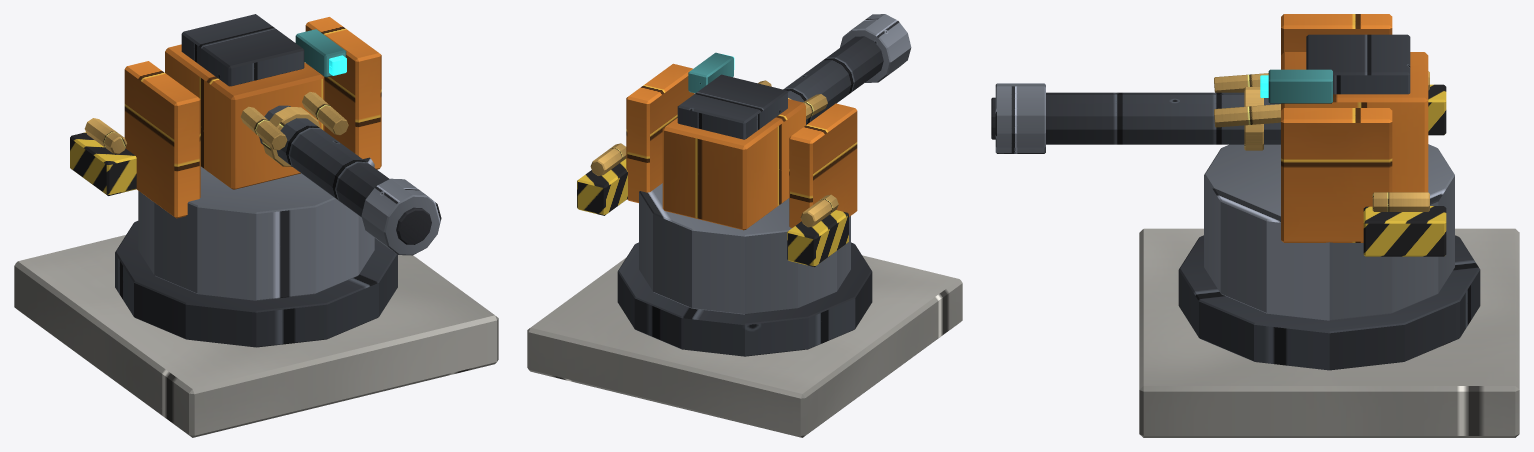
Rendered from BLD_CannonTurret_A_v1.fbx.
The picture shows the model from 3 angles, left to right: view 1: azimuth 30°, elevation 25°; view 2: azimuth 150°, elevation 25°; view 3: azimuth 270°, elevation 25°; orthographic projection. The views are drawn at different scales.
Parts seen in each view (by area): view 1: GEO_CannonTurret_A_Base, GEO_CannonTurret_A_Head; view 2: GEO_CannonTurret_A_Base, GEO_CannonTurret_A_Head; view 3: GEO_CannonTurret_A_Base, GEO_CannonTurret_A_Head.
Boxes of the visible parts, box(x1,y1,x2,y2) form: GEO_CannonTurret_A_Base: box(14, 118, 498, 437); GEO_CannonTurret_A_Head: box(124, 14, 441, 255); GEO_CannonTurret_A_Base: box(527, 143, 962, 437); GEO_CannonTurret_A_Head: box(626, 14, 911, 230); GEO_CannonTurret_A_Base: box(1139, 71, 1519, 437); GEO_CannonTurret_A_Head: box(991, 14, 1428, 242).
Bounding box in the file's own units: 212 × 192 × 294.
